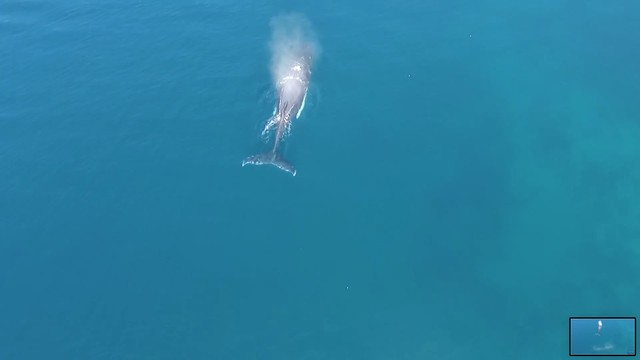whale: (237, 33, 323, 186)
